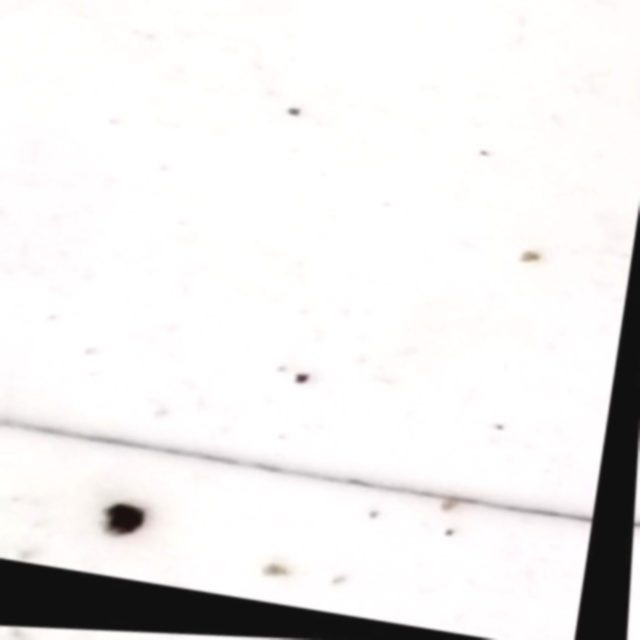varroa: (96, 506, 151, 548)
